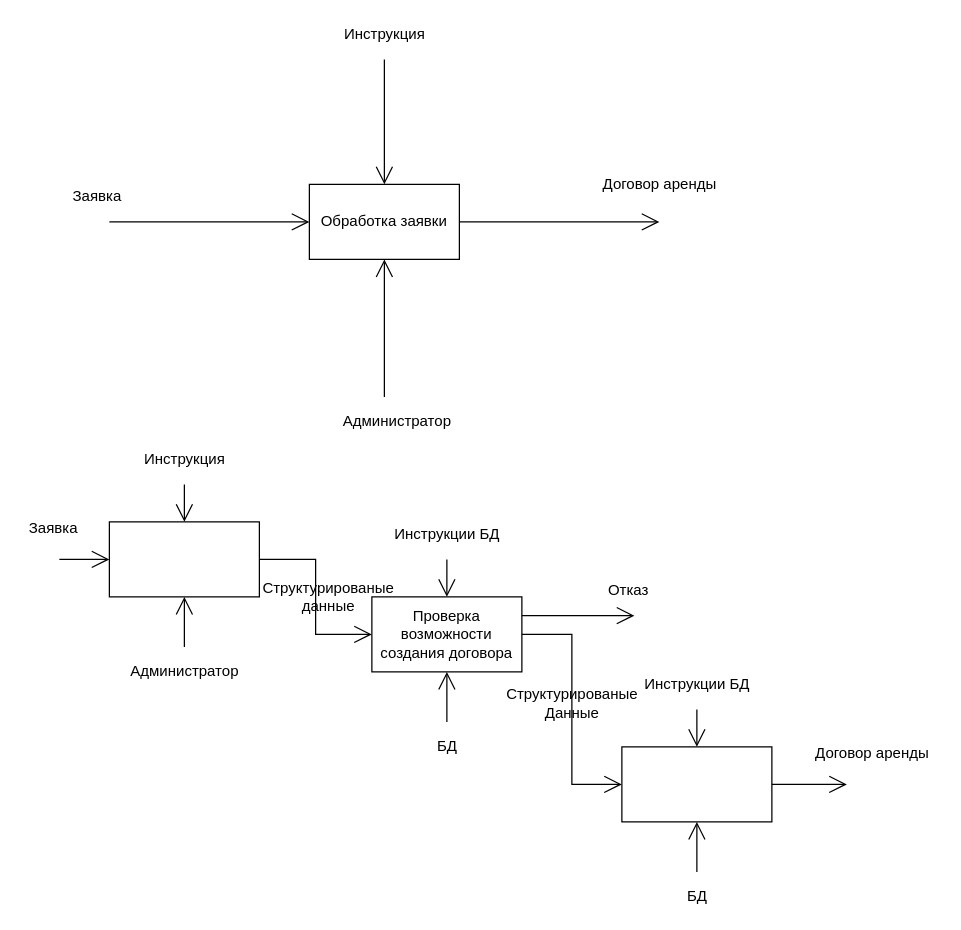
The diagram is 961 pixels wide and 930 high, and some of its shapes have lost their labels. The centre of each missing label's shape, as x and y in pixels:
"Запись договора в БД" belongs at (x=696, y=784).
"Запись заявки в виде данных" belongs at (x=183, y=559).
